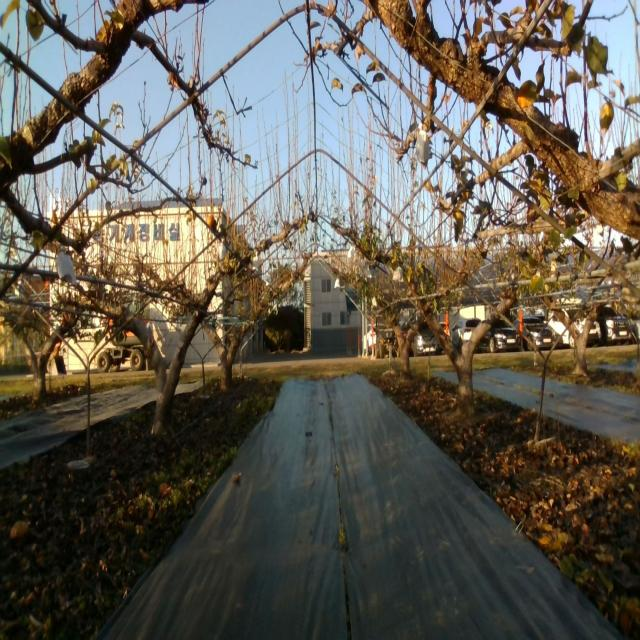pearbags: (55, 245, 77, 285), (415, 123, 430, 169), (392, 265, 404, 283)
